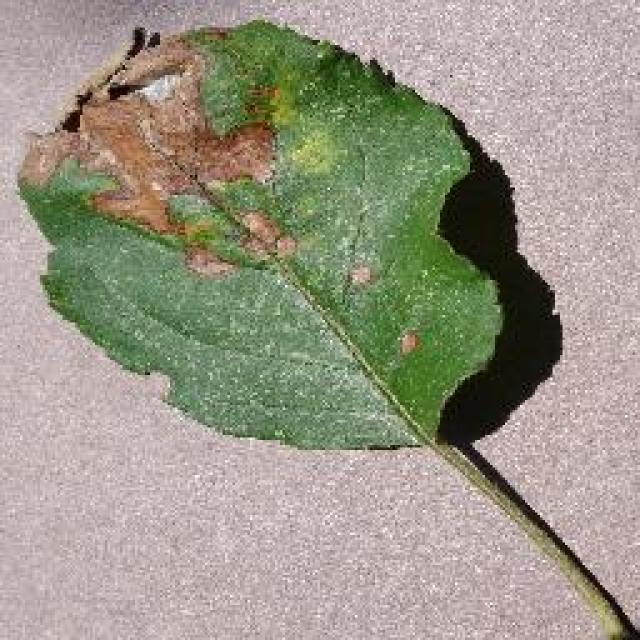black_rot: (19, 15, 313, 276)
